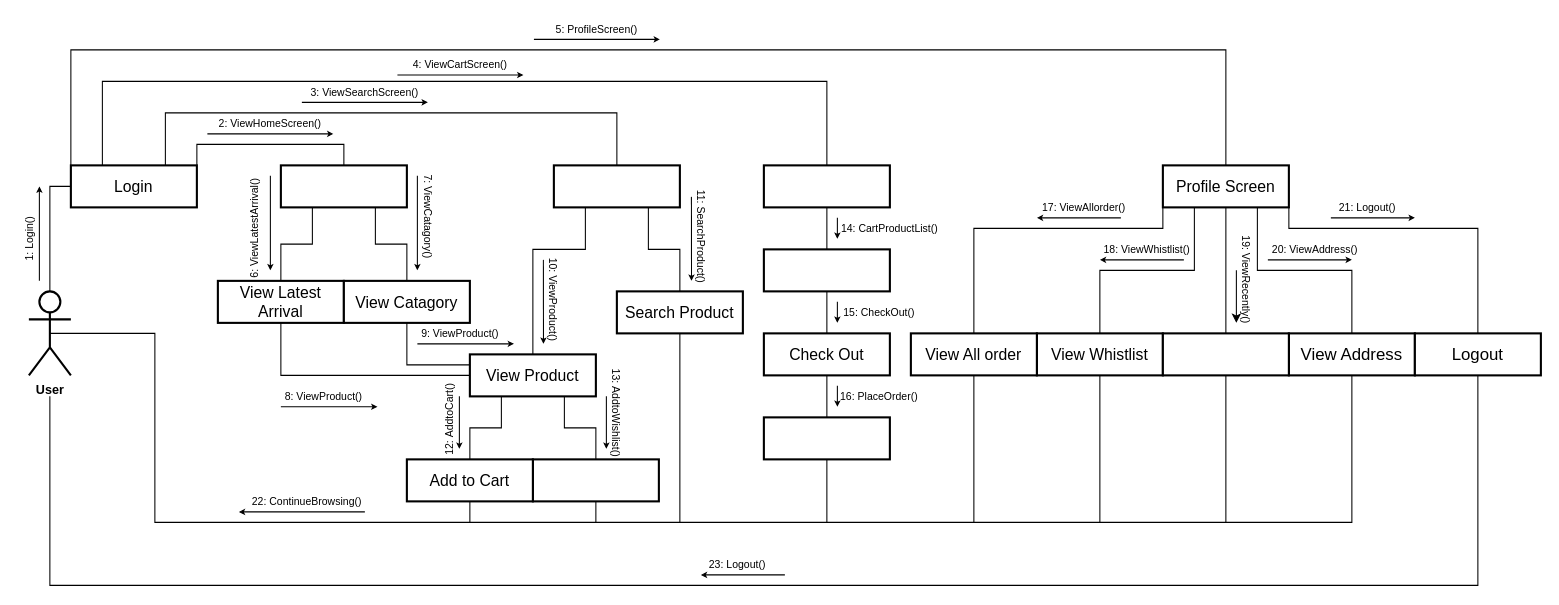
This 1559x605 diagram has some shape labels left out. Each missing label, with the centre of its shape:
"Add to Wishlist" goes at (x=595, y=480).
"Cart Product List" goes at (x=826, y=270).
"Place Order" goes at (x=826, y=438).
"View Cart Screen" goes at (x=826, y=186).
"View Home Screen" goes at (x=343, y=186).
"View Recently" goes at (x=1225, y=354).
"View Search Screen" goes at (x=616, y=186).
